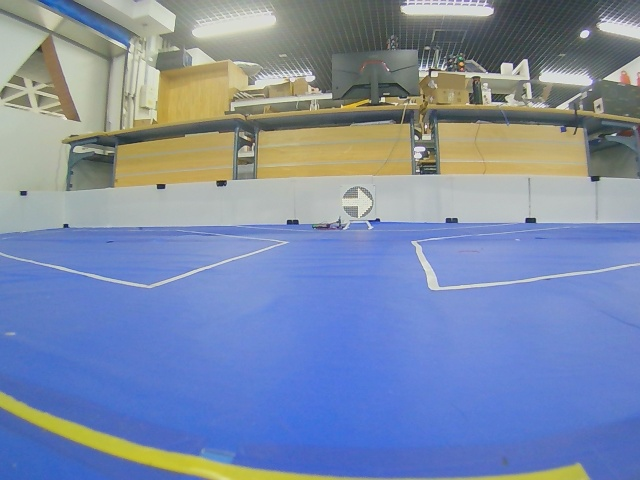right_yellow: (342, 186, 374, 219)
